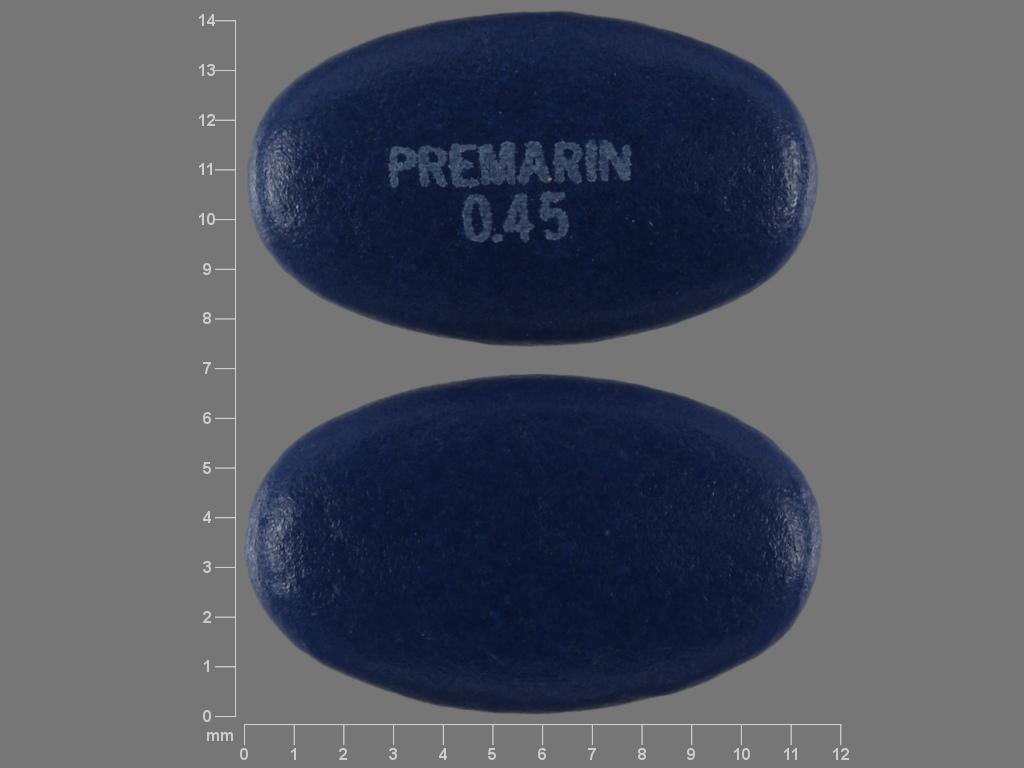Pill: (241, 359, 830, 719), (243, 4, 826, 356)
